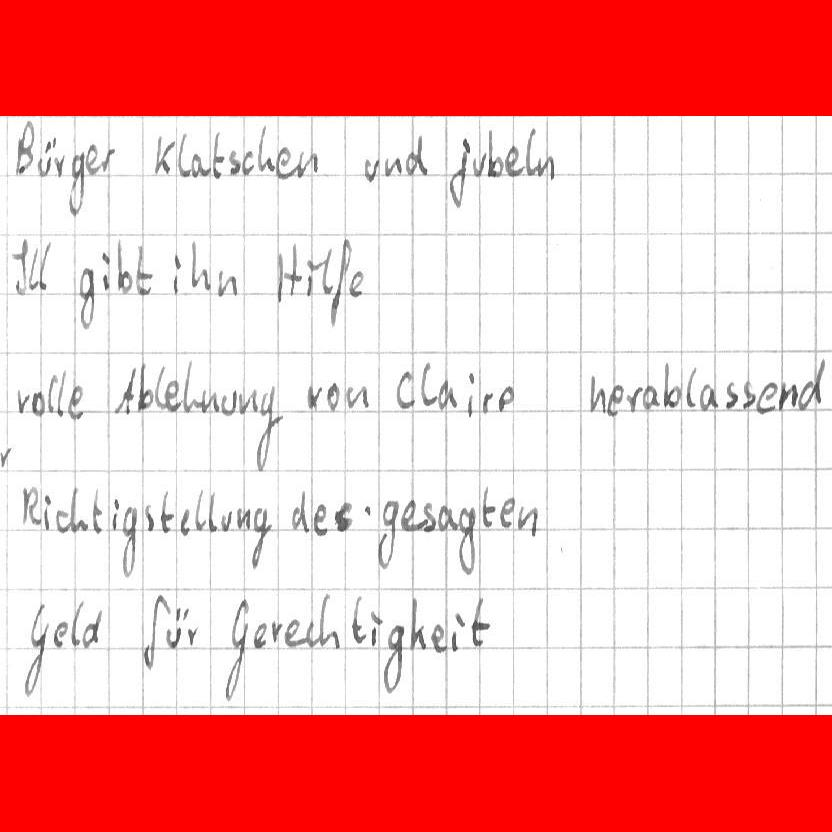Char: (223, 601, 248, 704), (255, 383, 282, 475), (23, 606, 47, 702), (140, 592, 166, 672), (330, 238, 352, 327), (797, 352, 828, 411), (275, 242, 303, 302), (449, 136, 471, 210), (382, 623, 404, 693), (248, 506, 271, 569), (376, 499, 397, 566), (317, 593, 340, 649), (456, 506, 475, 573), (120, 506, 137, 578), (133, 242, 154, 298), (114, 365, 137, 416), (77, 265, 95, 328), (14, 120, 34, 176), (408, 597, 428, 653), (150, 131, 175, 175), (469, 596, 491, 646), (188, 239, 209, 290), (69, 152, 85, 216), (183, 358, 201, 414), (165, 606, 188, 649), (522, 126, 541, 177), (406, 132, 427, 176), (138, 360, 155, 413), (70, 486, 89, 532), (290, 487, 309, 532), (487, 128, 504, 178), (517, 503, 540, 539), (394, 369, 414, 410), (350, 593, 366, 644), (14, 241, 29, 295), (34, 242, 50, 291), (662, 360, 678, 409), (209, 130, 225, 178), (258, 126, 274, 174), (21, 482, 38, 526), (478, 485, 495, 528), (420, 362, 435, 410), (90, 486, 105, 533), (116, 244, 131, 291), (436, 381, 459, 411), (589, 372, 606, 412), (84, 609, 101, 649), (344, 382, 369, 409), (38, 135, 54, 176), (606, 382, 625, 416), (216, 268, 238, 297), (401, 497, 419, 532), (758, 379, 776, 414), (158, 489, 172, 533), (312, 502, 330, 536), (72, 599, 84, 650), (152, 364, 165, 411), (321, 246, 333, 296), (189, 152, 212, 178), (294, 151, 317, 177), (778, 380, 797, 411), (698, 383, 719, 411), (194, 488, 207, 532), (177, 132, 190, 176), (237, 389, 259, 415), (334, 502, 353, 531), (451, 611, 465, 650), (684, 368, 697, 410), (505, 146, 522, 178), (431, 622, 448, 654), (98, 249, 111, 290), (164, 380, 181, 411), (362, 153, 380, 182), (438, 504, 456, 533), (303, 257, 316, 297), (305, 383, 324, 410), (68, 387, 84, 418), (465, 371, 476, 416), (536, 153, 555, 179), (283, 617, 300, 646), (52, 620, 69, 649), (644, 382, 661, 411), (56, 368, 66, 417), (251, 622, 269, 649), (741, 379, 756, 411), (628, 383, 644, 413), (100, 146, 116, 176), (348, 269, 364, 299), (201, 388, 220, 413), (176, 507, 191, 538), (370, 610, 382, 648), (384, 154, 403, 178), (277, 148, 292, 178), (724, 381, 739, 411), (142, 503, 157, 533), (499, 499, 514, 529), (497, 387, 515, 412), (220, 389, 237, 415), (208, 489, 218, 533), (422, 502, 436, 532), (171, 256, 182, 294), (43, 491, 53, 532), (327, 382, 341, 411), (46, 374, 56, 414), (235, 506, 251, 531), (269, 617, 282, 647), (87, 146, 100, 176), (55, 509, 70, 535), (471, 151, 486, 177), (480, 390, 496, 413), (0, 440, 13, 468), (31, 391, 45, 416), (228, 150, 241, 176), (241, 149, 254, 175), (305, 620, 317, 648), (186, 624, 199, 649), (17, 388, 29, 413), (55, 151, 67, 176), (359, 504, 374, 524), (220, 510, 233, 533), (110, 498, 119, 530)
